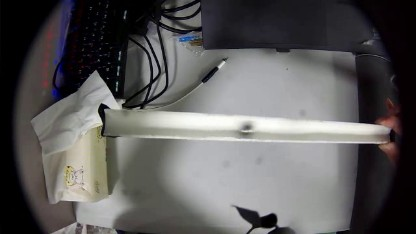gangzhu: (238, 122, 256, 139)
